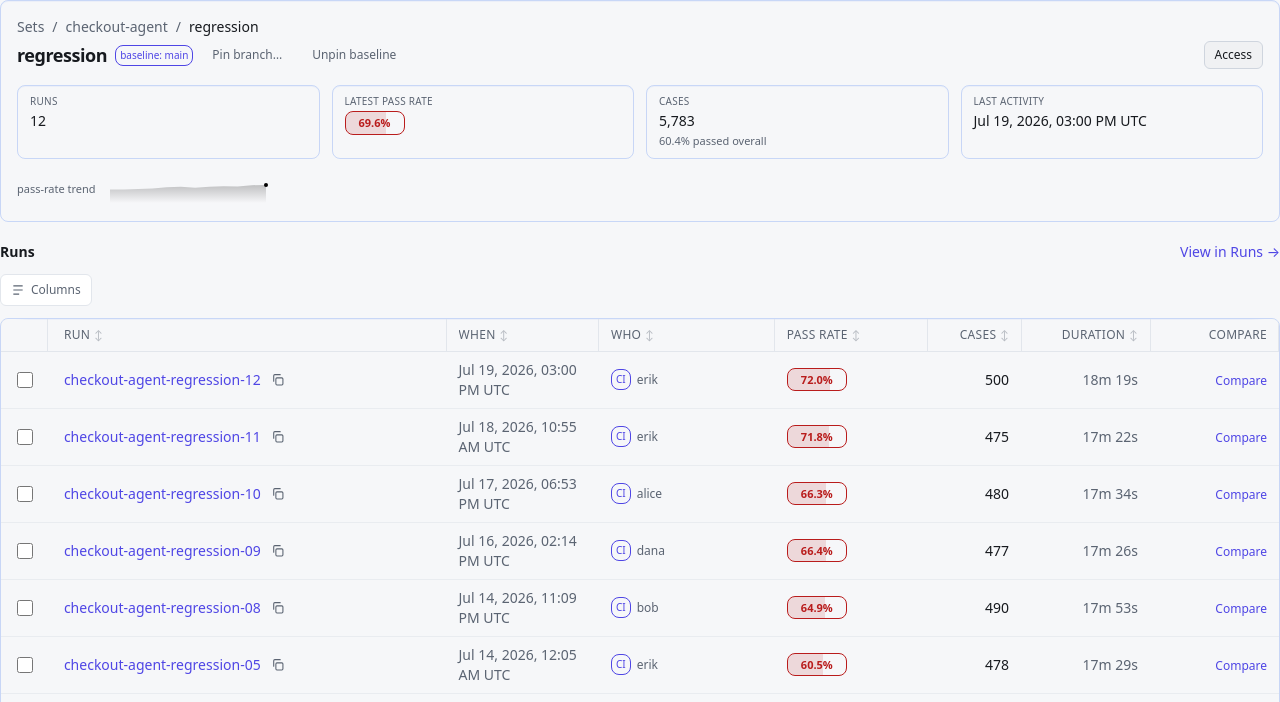
Test: SetSuitePage baseline controls › opens the branch field on the branch already pinned
Click the button "Pin branch…" at [247, 55], box [201, 41, 293, 69]
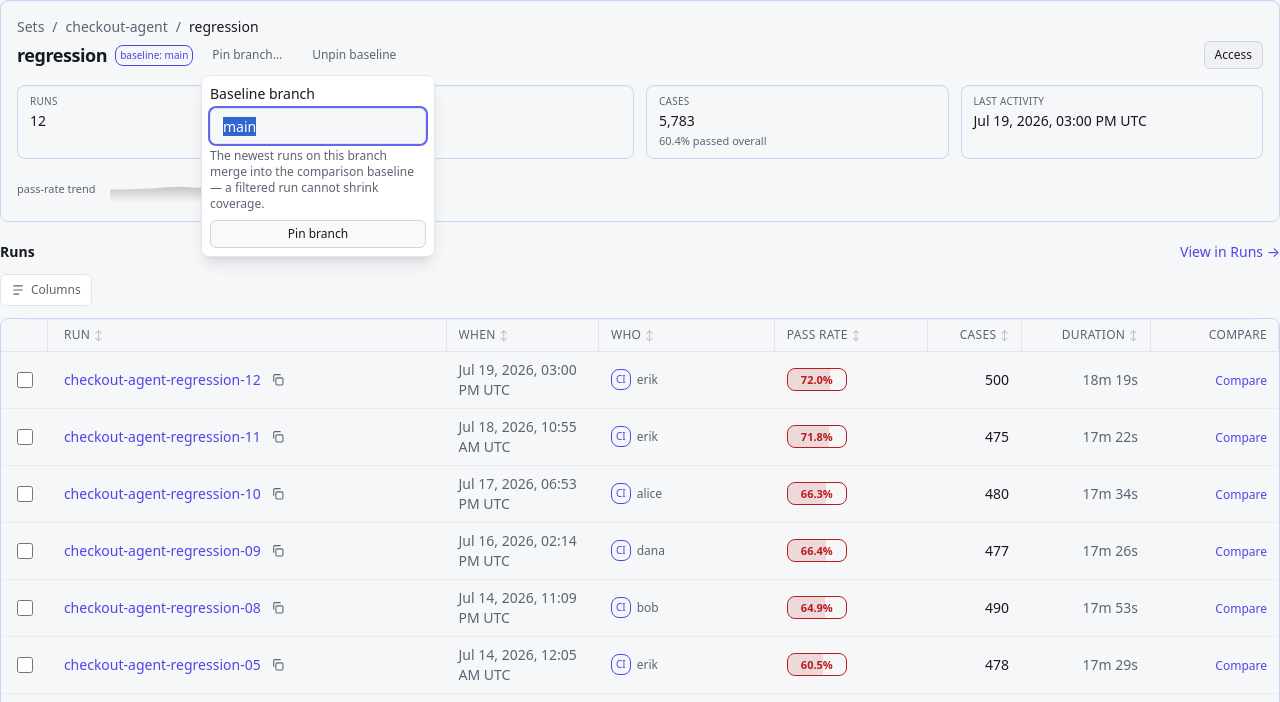
Check: the field labelled "Baseline branch" holds "main", box [210, 108, 426, 144]
